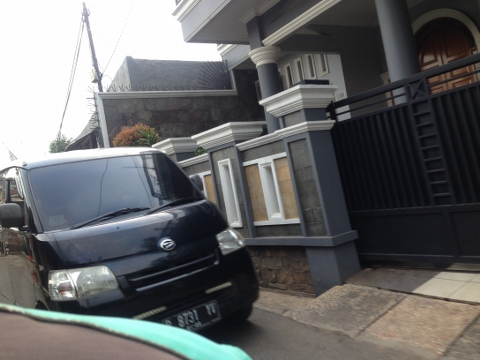mobil: (1, 146, 259, 332)
